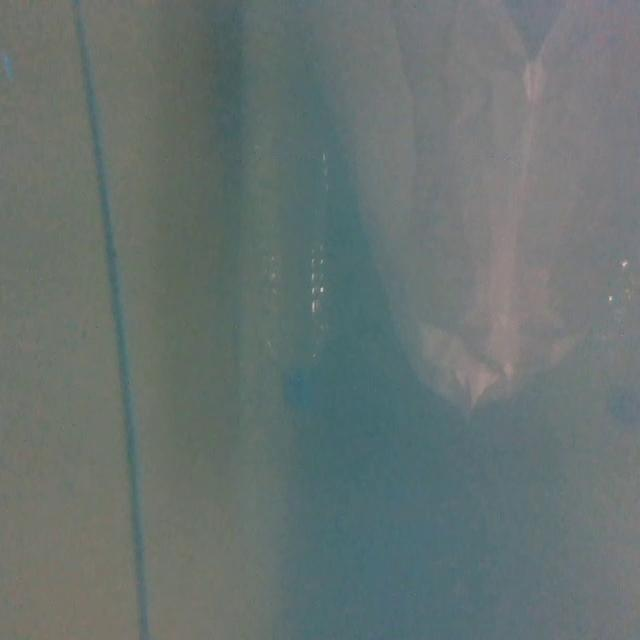plastic bags: (337, 0, 640, 422)
plastic bottle: (248, 95, 338, 413)
